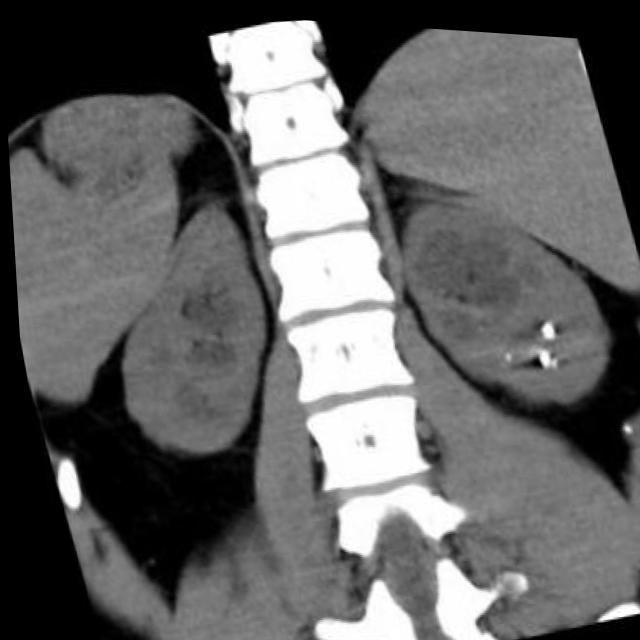Tas_Var: (532, 307, 556, 336), (529, 338, 551, 363), (493, 339, 511, 359), (545, 343, 560, 365)
